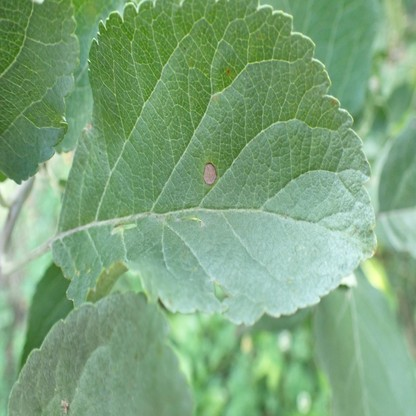frogeye: (203, 161, 217, 186)
